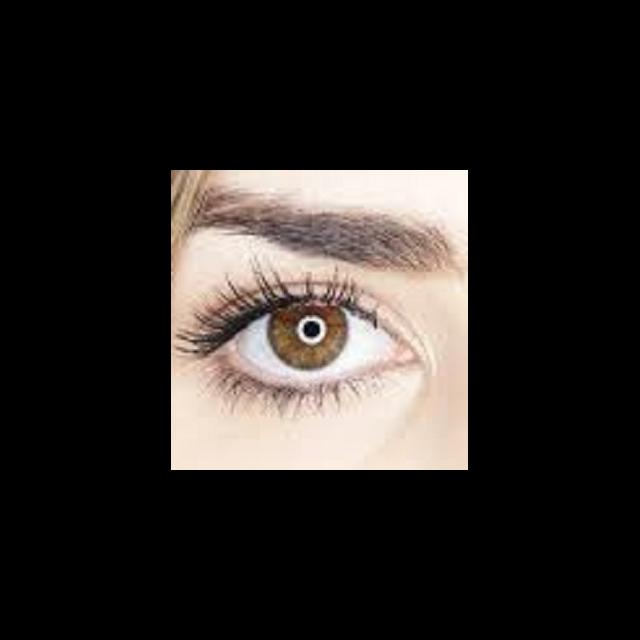eye: (236, 301, 397, 380)
iris: (269, 305, 350, 371)
